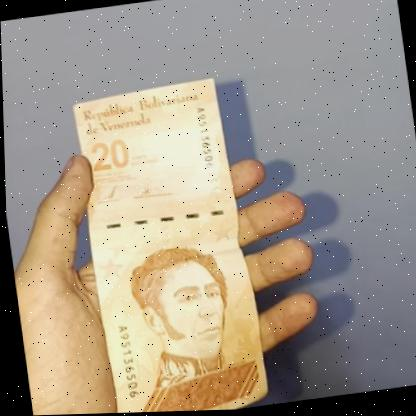twenty-front-vef: (68, 76, 271, 414)
